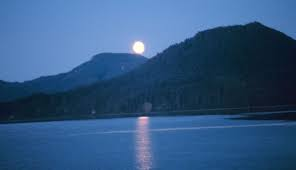moon: (132, 40, 145, 54)
